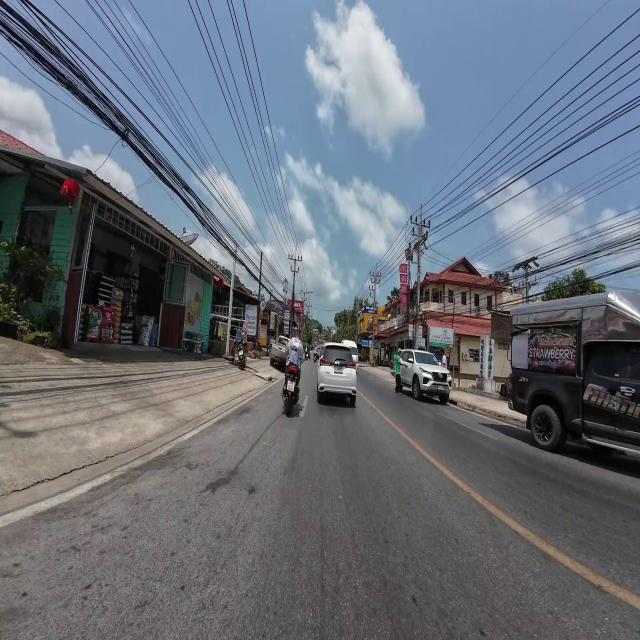car: (401, 350, 452, 404), (317, 343, 356, 406), (341, 340, 358, 369)
motorcycle: (282, 364, 299, 415), (238, 345, 246, 369)
